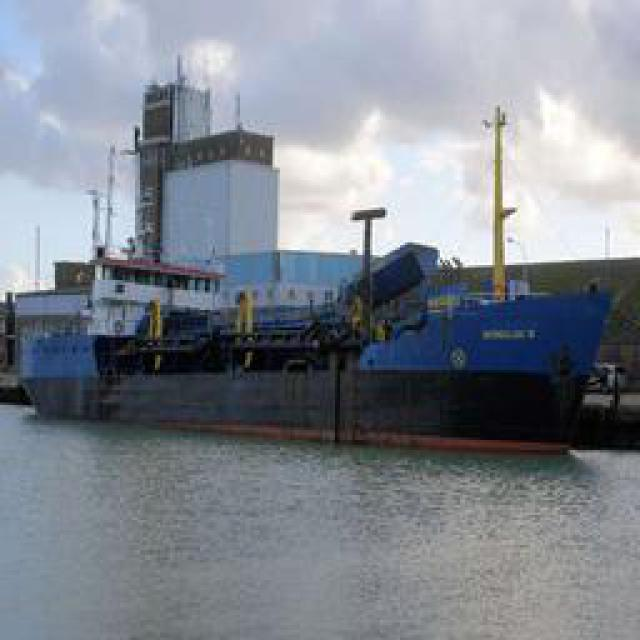Ship: (14, 234, 624, 437)
